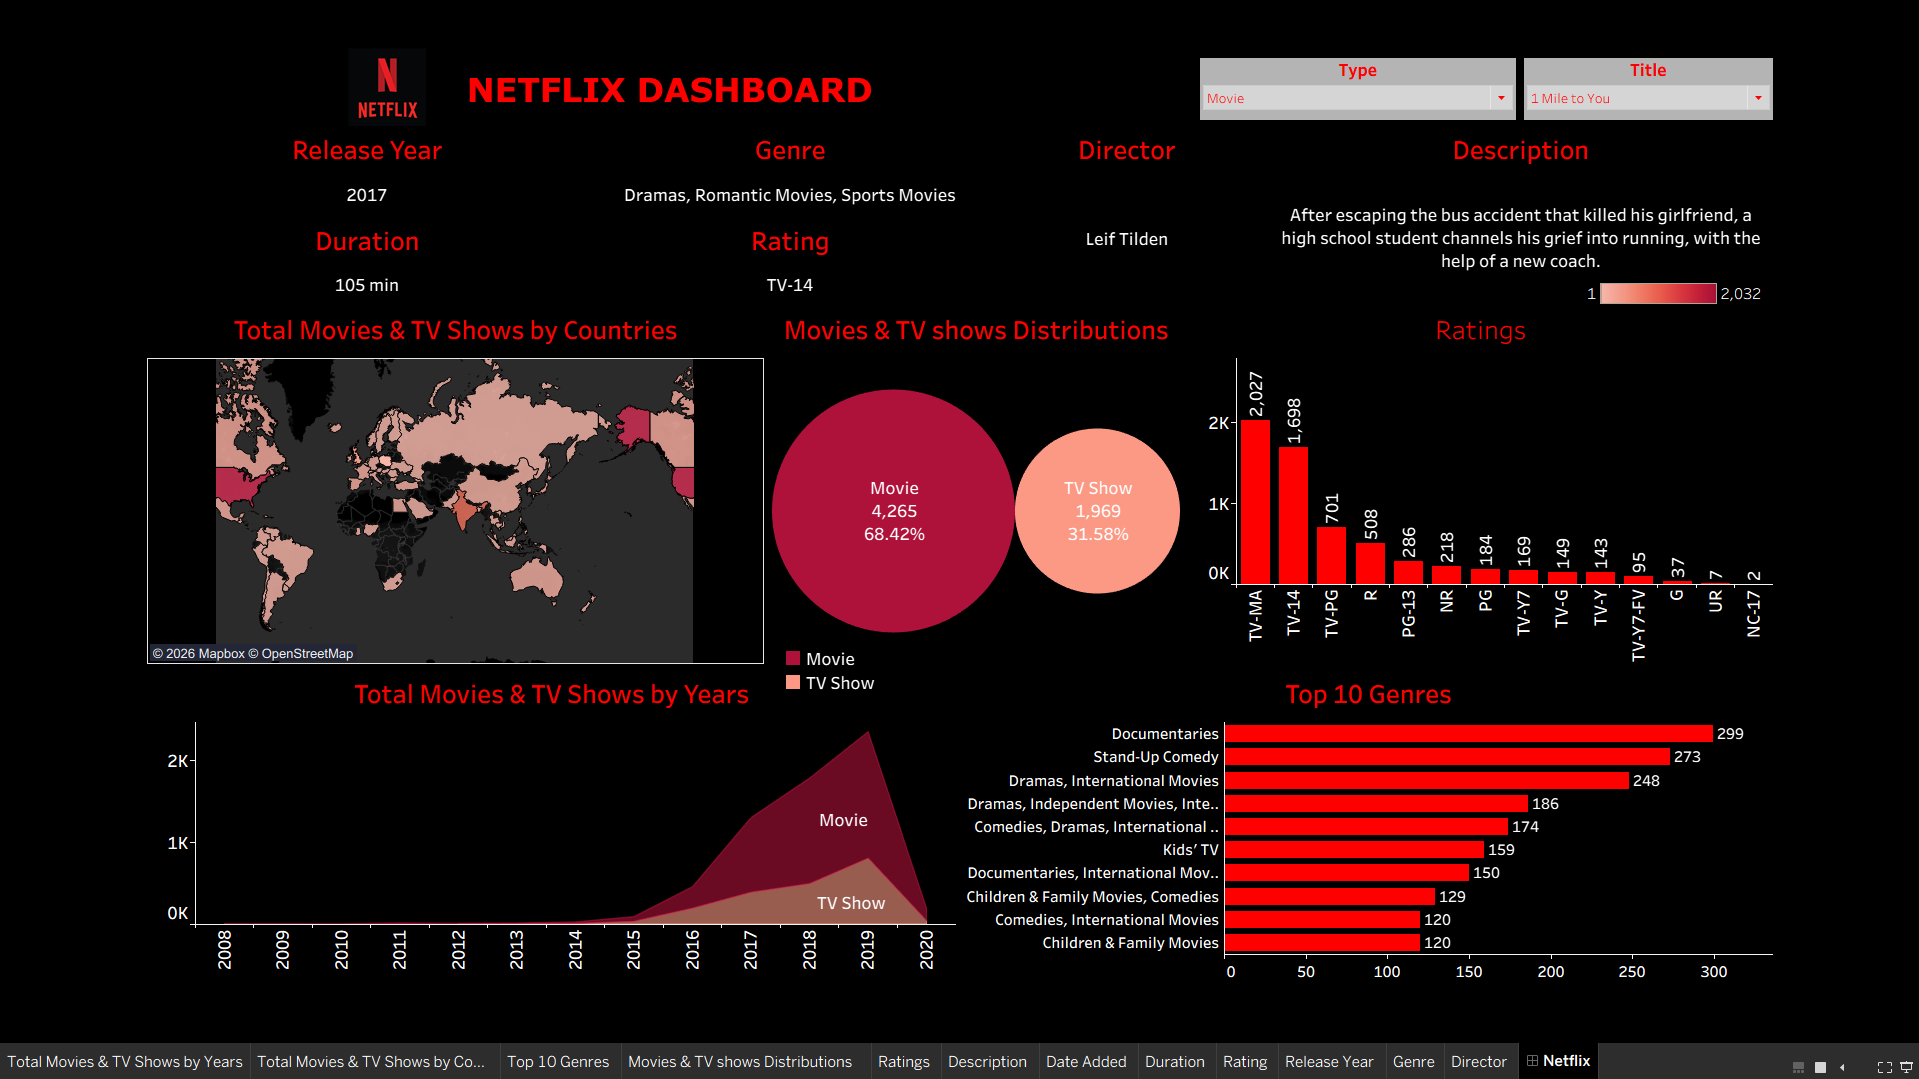

What the dashboard file says about the page in this screenshot:
{"tool":"tableau","page":{"name":"Netflix","canvas":[1650,950],"ordinal":0},"visuals":[{"type":"image","box":[190,2,125,78]},{"type":"text","box":[8,8,1053,70]},{"type":"filter","title":"Description","param":"[federated.1j7vh5v18kbyg01gyd6db0r336zv].[none:type:nk]","box":[1061,8,324,70]},{"type":"filter","title":"Description","param":"[federated.1j7vh5v18kbyg01gyd6db0r336zv].[none:title:nk]","box":[1385,8,257,70]},{"type":"worksheet","title":"Release Year","mark":"Automatic","box":[8,78,448,90.7]},{"type":"worksheet","title":"Genre","mark":"Automatic","box":[456,78,398,90.7]},{"type":"worksheet","title":"Director","mark":"Automatic","box":[854,78,275,180]},{"type":"worksheet","title":"Description","mark":"Automatic","box":[1129,78,513,180]},{"type":"worksheet","title":"Duration","mark":"Automatic","box":[8,168.7,448,89.3]},{"type":"worksheet","title":"Rating","mark":"Automatic","box":[456,168.7,398,89.3]},{"type":"legend","title":"Total Movies & TV Shows by Countries","param":"[federated.1j7vh5v18kbyg01gyd6db0r336zv].[ctd:show_id:qk]","box":[1448,233,183,54]},{"type":"worksheet","title":"Total Movies & TV Shows by Countries","mark":"Multipolygon","box":[8,258,625,364.3]},{"type":"worksheet","title":"Movies & TV shows Distributions","mark":"Circle","box":[633,258,416,364.3]},{"type":"worksheet","title":"Ratings","mark":"Automatic","rows":["show_id"],"cols":["rating"],"box":[1049,258,593,364.3]},{"type":"legend","title":"Movies & TV shows Distributions","param":"[federated.1j7vh5v18kbyg01gyd6db0r336zv].[none:type:nk]","box":[646,600,140,48]},{"type":"worksheet","title":"Total Movies & TV Shows by Years","mark":"Area","rows":["show_id"],"cols":["date_added"],"box":[8,622.3,817,319.7]},{"type":"worksheet","title":"Top 10 Genres","mark":"Bar","rows":["listed_in"],"cols":["show_id"],"box":[825,622.3,817,319.7]}]}

Visuals, with their boxes on the page's 1650x950 design canvas (x1, y1, x2, y2). These are canvas units, not pixel positions in the 1919x1079 screenshot, which may show the page scaled, cropped or inside an application window:
image: 190,2,315,80
text: 8,8,1061,78
"Description" filter: 1061,8,1385,78
"Description" filter: 1385,8,1642,78
"Release Year" worksheet: 8,78,456,169
"Genre" worksheet: 456,78,854,169
"Director" worksheet: 854,78,1129,258
"Description" worksheet: 1129,78,1642,258
"Duration" worksheet: 8,169,456,258
"Rating" worksheet: 456,169,854,258
"Total Movies & TV Shows by Countries" legend: 1448,233,1631,287
"Total Movies & TV Shows by Countries" worksheet (Multipolygon marks): 8,258,633,622
"Movies & TV shows Distributions" worksheet (Circle marks): 633,258,1049,622
"Ratings" worksheet: 1049,258,1642,622
"Movies & TV shows Distributions" legend: 646,600,786,648
"Total Movies & TV Shows by Years" worksheet (Area marks): 8,622,825,942
"Top 10 Genres" worksheet (Bar marks): 825,622,1642,942
